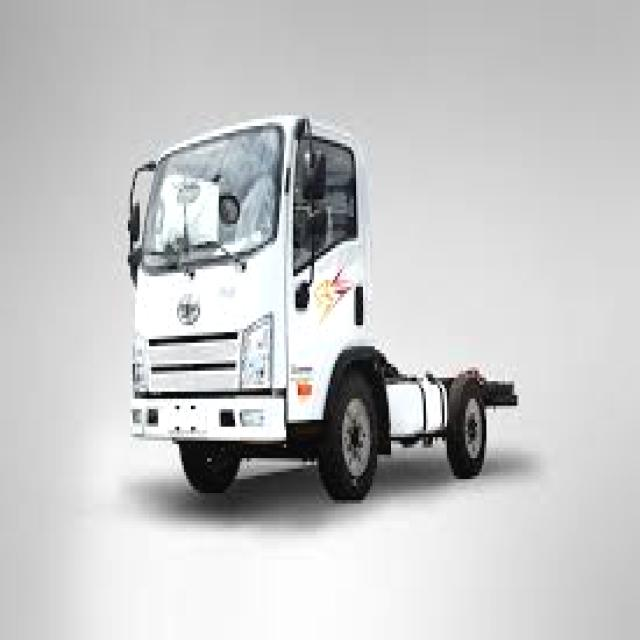TRUCK: (123, 100, 516, 500)
